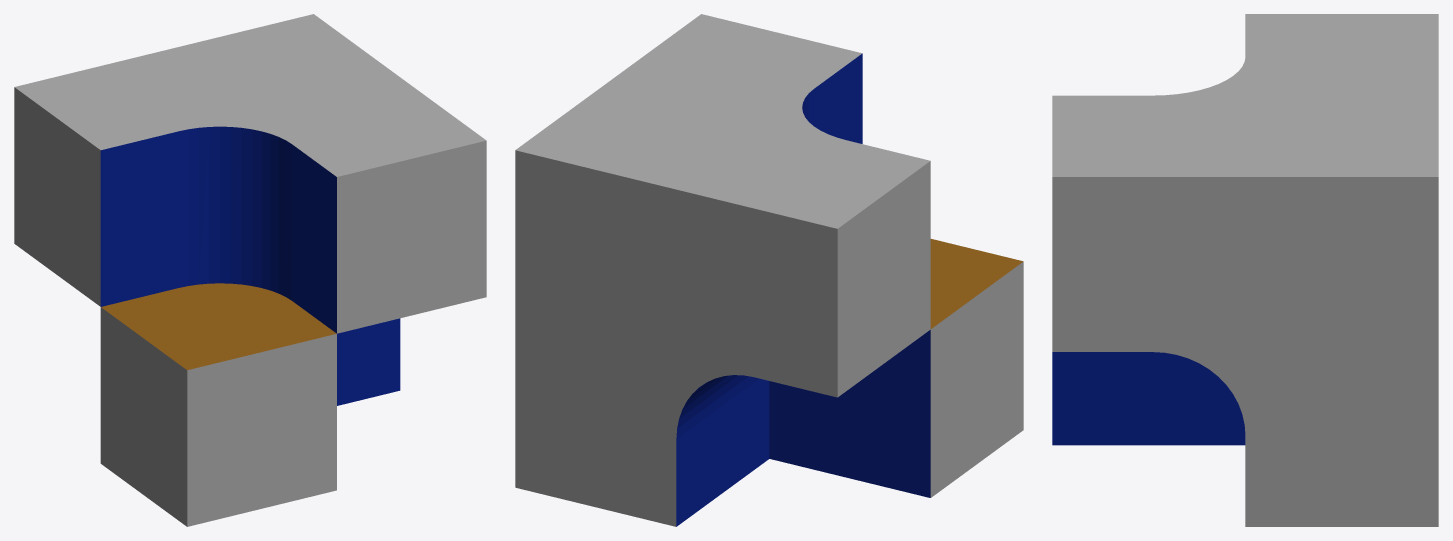
File: case_122.fbx
The picture shows the model from 3 angles, left to right: view 1: azimuth 30°, elevation 25°; view 2: azimuth 150°, elevation 25°; view 3: azimuth 270°, elevation 25°; orthographic projection. The views are drawn at different scales.
Visible parts, largest first — view 1: case_122; view 2: case_122; view 3: case_122.
Boxes of the visible parts, x1=… form: case_122: x1=14, y1=14, x2=486, y2=526; case_122: x1=515, y1=14, x2=1023, y2=526; case_122: x1=1052, y1=14, x2=1438, y2=526.
Bounding box in the file's own units: 1 × 1 × 1.
